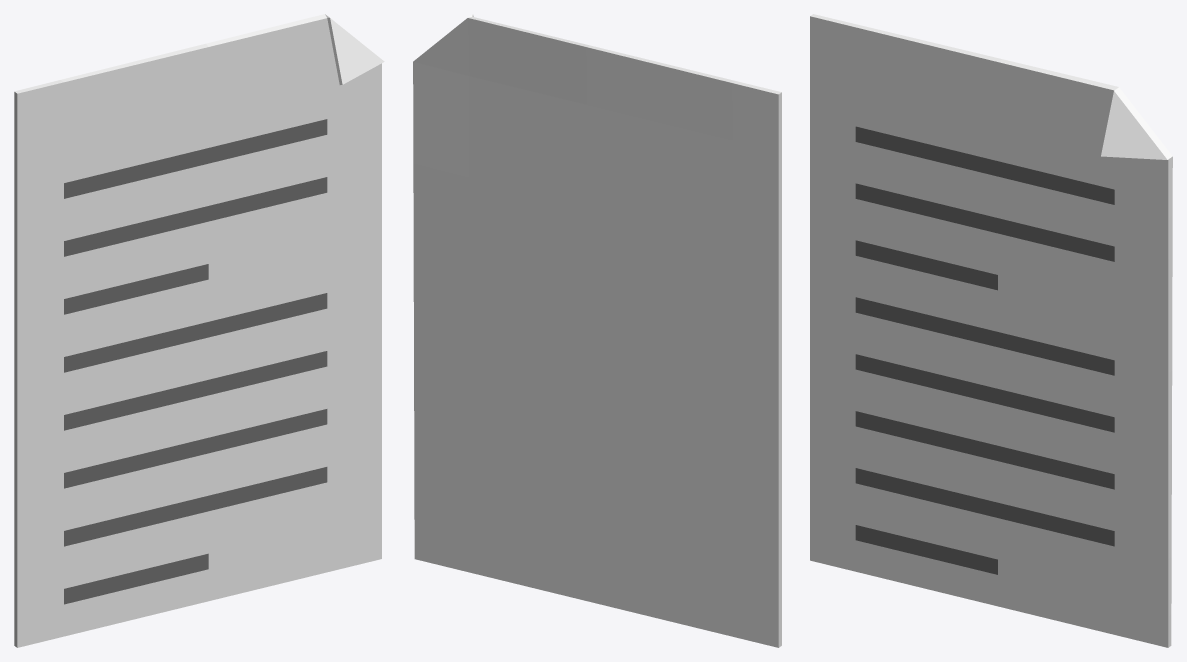
Rendered from page_facing_up.gltf.
3 renders of one model, left to right at view 1: azimuth 30°, elevation 25°; view 2: azimuth 150°, elevation 25°; view 3: azimuth 330°, elevation 25°, orthographic.
Parts seen in each view (by area): view 1: Plane.323; view 2: Plane.323; view 3: Plane.323.
Part boxes in pixels (x1,y1,x2,y2): Plane.323: [14, 14, 384, 647]; Plane.323: [413, 14, 781, 647]; Plane.323: [810, 14, 1172, 647].
Bounding box in the file's own units: 1.64 × 2.38 × 0.1413.
Materials: 1 (1 with a texture image).
